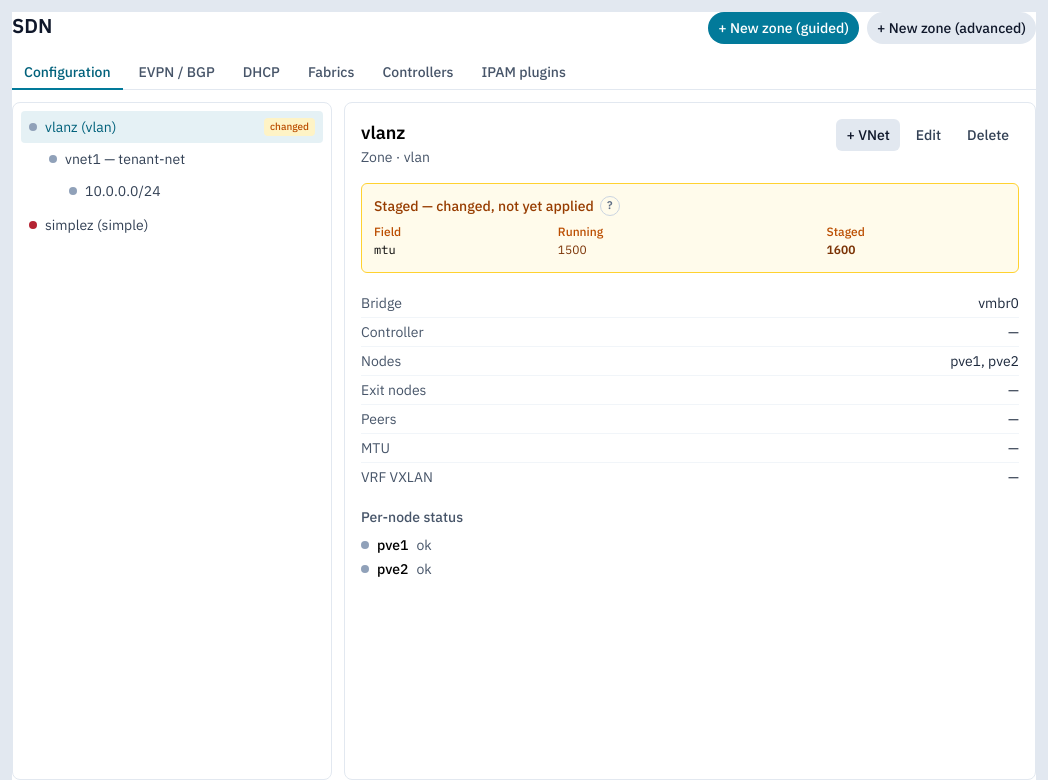
Test: SdnPage › AC4: per-node status list shows the error detail for the failing node
expect the text "simplez (simple)" is shown: met, box [45,215,148,235]
Click the list item "simplez (simple)".
click(97, 225)  # box [21,209,323,241]
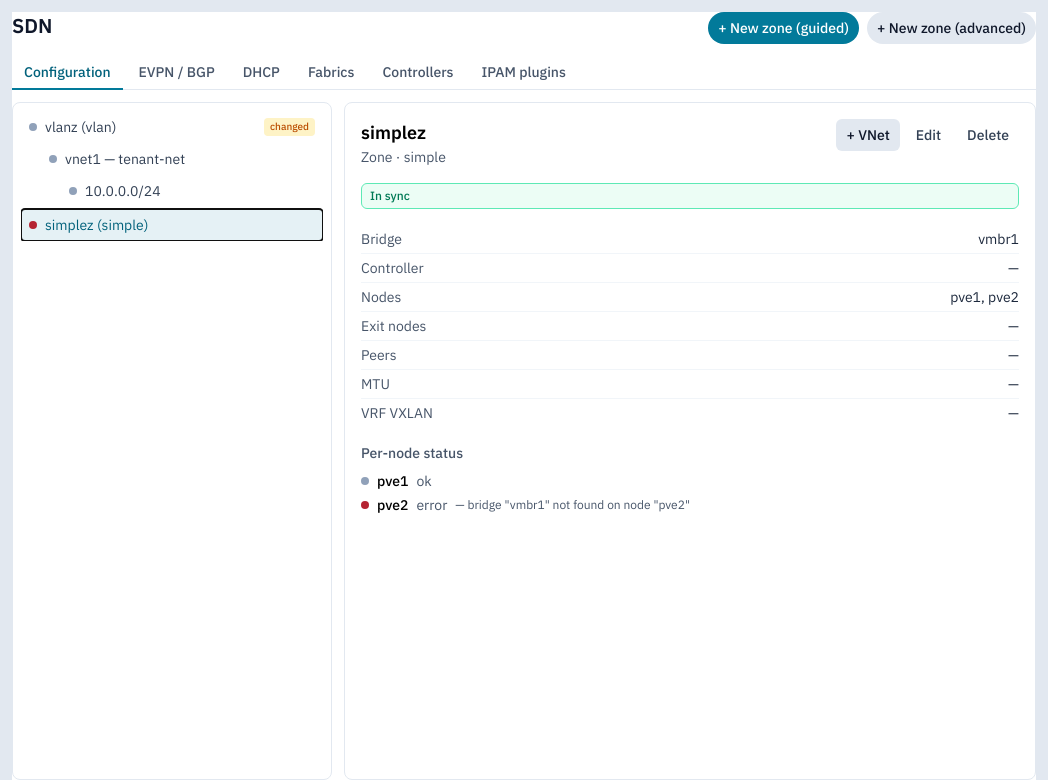
expect the text "error" is shown: met, box [416,495,447,515]
expect the text "— bridge \"vmbr1\" not found on node \"pve2\"" is shown: met, box [455,497,690,513]
